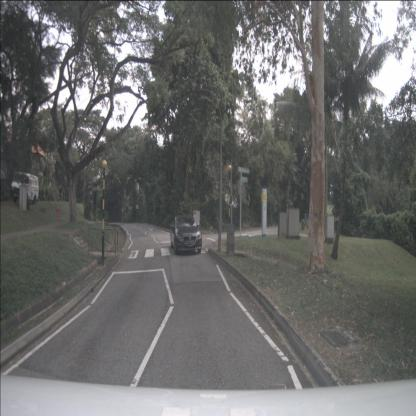human-pedestrian-adult: (59, 184, 63, 203), (62, 188, 65, 202)
vehicle-car: (170, 214, 202, 254), (11, 172, 39, 205)
